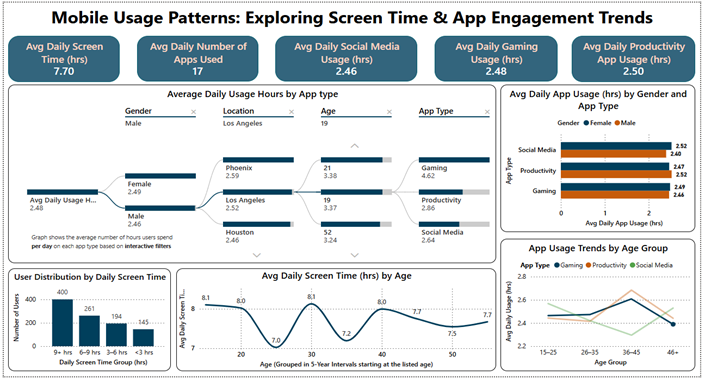

This screenshot's page, from the dashboard's own definition file:
{"tool":"powerbi","page":{"name":"Page 1","canvas":[1280,720],"ordinal":0},"visuals":[{"type":"textbox","box":[0,0,1280,75.8],"z":0},{"type":"decompositionTreeVisual","title":"Average Daily Usage Hours by App type","fields":{"ExplainBy":["mobile_usage_behavioral_analysis.Gender","mobile_usage_behavioral_analysis.Location","mobile_usage_behavioral_analysis.Age","App_Usage_By_Type.App_Usage_Type"],"Analyze":["App_Usage_By_Type.Avg Daily Usage Hours by App Type"]},"box":[8.1,157.6,897.3,343.9],"z":0,"group":"g1"},{"type":"card","title":"Avg Daily Screen Time (hrs)","fields":{"Values":["Avg(mobile_usage_behavioral_analysis.Daily_Screen_Time_Hours)"]},"box":[8.1,63.6,205.1,89],"z":1000},{"type":"card","title":"Avg Daily Number of Apps Used","fields":{"Values":["Avg(mobile_usage_behavioral_analysis.Number_of_Apps_Used)"]},"box":[245.4,63.6,223,88.7],"z":2000},{"type":"card","title":"Avg Daily Social Media Usage (hrs)","fields":{"Values":["Avg(mobile_usage_behavioral_analysis.Social_Media_Usage_Hours)"]},"box":[499,63.6,260.6,88.7],"z":3000},{"type":"card","title":"Avg Daily Productivity App Usage (hrs)","fields":{"Values":["Avg(mobile_usage_behavioral_analysis.Productivity_App_Usage_Hours)"]},"box":[1044.2,63.6,226.6,89],"z":4000},{"type":"card","title":"Avg Daily Gaming Usage (hrs)","fields":{"Values":["Avg(mobile_usage_behavioral_analysis.Gaming_App_Usage_Hours)"]},"box":[791.6,63.6,226.6,88.7],"z":5000},{"type":"lineChart","title":"Avg Daily Screen Time (hrs) by Age","fields":{"Y":["Avg(mobile_usage_behavioral_analysis.Daily_Screen_Time_Hours)"],"Category":["mobile_usage_behavioral_analysis.Age (bins)"]},"box":[317,512.2,588.4,197.9],"z":6000},{"type":"clusteredColumnChart","title":"User Distribution by Daily Screen Time","fields":{"Category":["mobile_usage_behavioral_analysis.ScreenTimeGroup"],"Y":["CountNonNull(mobile_usage_behavioral_analysis.User_ID)"]},"box":[8.1,512.2,299.1,197.9],"z":7000},{"type":"clusteredBarChart","title":"Avg Daily App Usage (hrs) by Gender and App Type","fields":{"Category":["App_Usage_By_Type.App Type"],"Y":["Avg(App_Usage_By_Type.Usage_Hours)"],"Series":["GenderLookup.Gender"]},"box":[913.4,157.6,357.3,284.8],"z":8000},{"type":"lineChart","title":"App Usage Trends by Age Group","fields":{"Y":["Avg(App_Usage_By_Type.Usage_Hours)"],"Series":["App_Usage_By_Type.App Type"],"Category":["App_Usage_By_Type.Age_Group"]},"box":[913.4,454.9,357.3,255.2],"z":9000},{"type":"textbox","box":[45.9,436.5,281.6,61.4],"z":11000,"group":"g1"},{"type":"group","id":"g1","title":"Group 1","box":[8.1,157.6,897.3,343.9],"z":11001}]}

Visuals, with their boxes in screenshot pixels (x1, y1, x2, y2):
textbox: bbox=(4, 0, 698, 37)
"Average Daily Usage Hours by App type" decompositionTreeVisual: bbox=(8, 82, 495, 268)
"Avg Daily Screen Time (hrs)" card: bbox=(8, 31, 119, 79)
"Avg Daily Number of Apps Used" card: bbox=(137, 31, 258, 79)
"Avg Daily Social Media Usage (hrs)" card: bbox=(274, 31, 416, 79)
"Avg Daily Productivity App Usage (hrs)" card: bbox=(570, 31, 693, 79)
"Avg Daily Gaming Usage (hrs)" card: bbox=(433, 31, 556, 79)
"Avg Daily Screen Time (hrs) by Age" lineChart: bbox=(176, 274, 495, 380)
"User Distribution by Daily Screen Time" clusteredColumnChart: bbox=(8, 274, 170, 380)
"Avg Daily App Usage (hrs) by Gender and App Type" clusteredBarChart: bbox=(499, 82, 693, 236)
"App Usage Trends by Age Group" lineChart: bbox=(499, 243, 693, 380)
textbox: bbox=(29, 233, 181, 266)
"Group 1" group: bbox=(8, 82, 495, 268)
